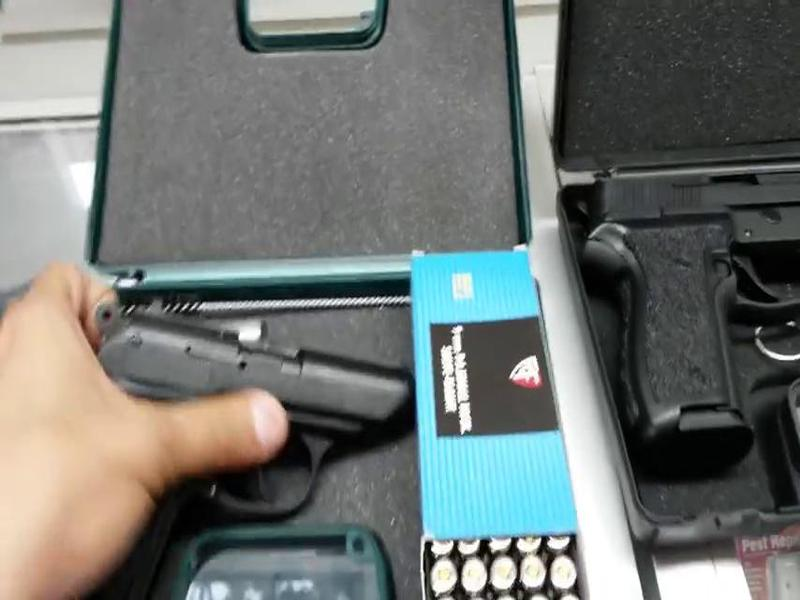Pistola: (37, 289, 443, 600)
